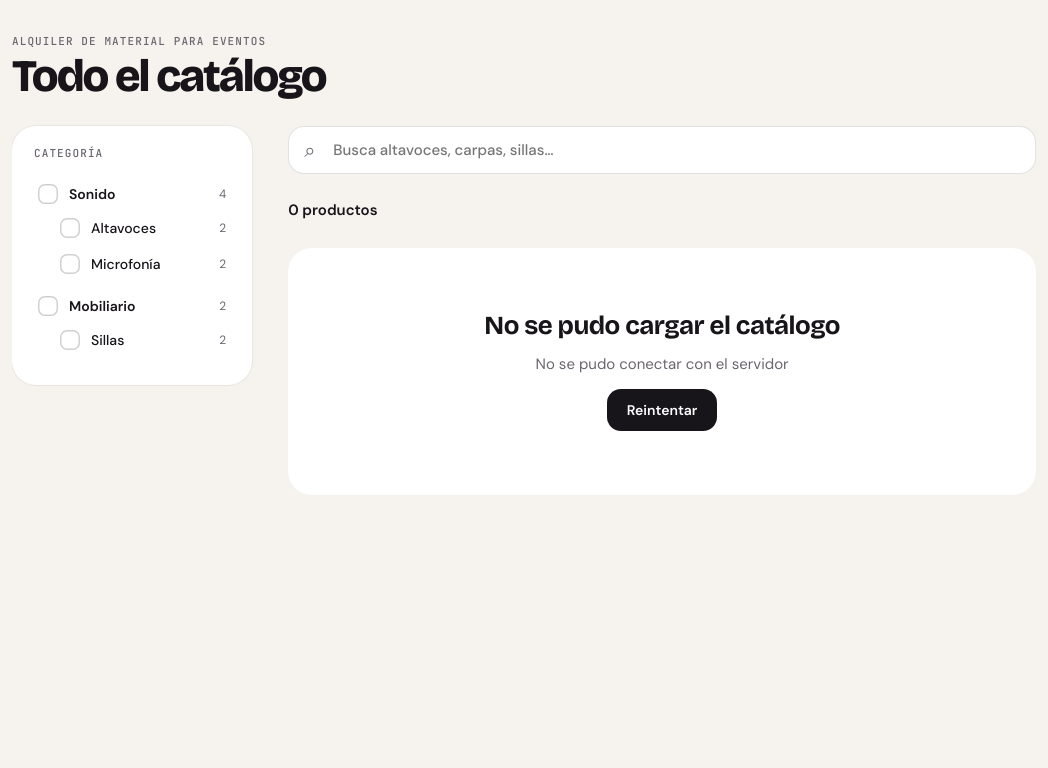
Test: Catalog › mostra l'error de l'API i torna a provar amb "Reintentar"
This screenshot has width=1048, height=768.
Expected: the heading "No se pudo cargar el catálogo" is shown, [484,312,840,340]
Expected: the text "No se pudo conectar con el servidor" is shown, [536,354,789,375]
Click the button "Reintentar": (662,410) [607,389,718,431]
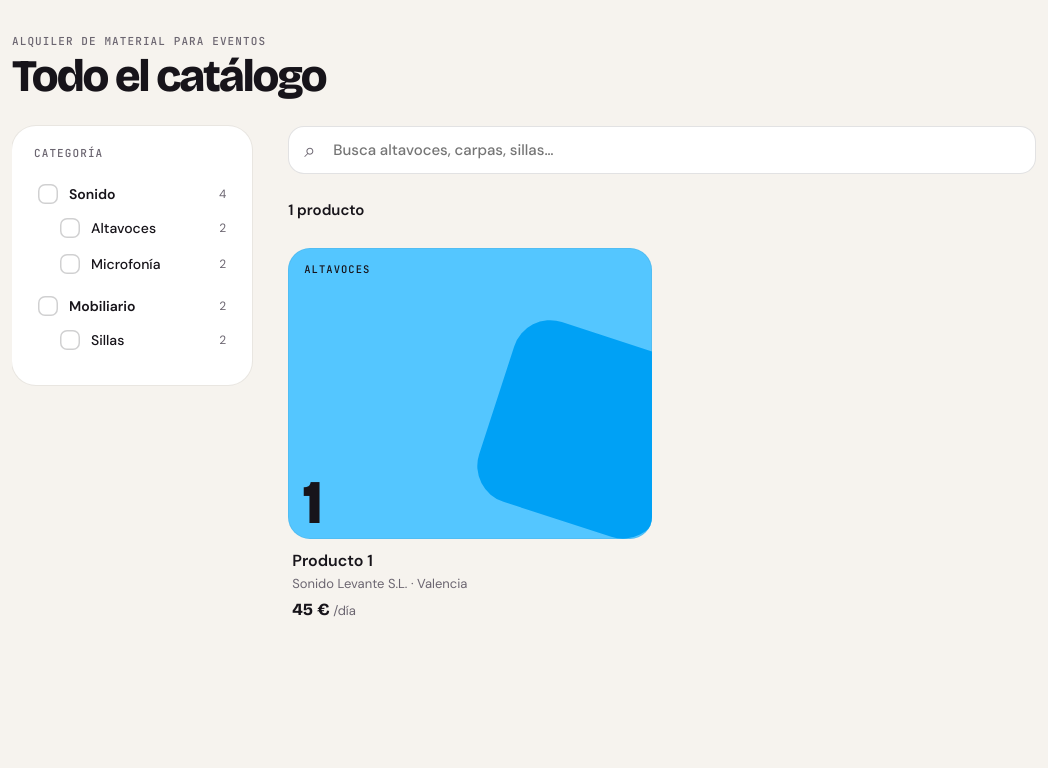
Now the heading "Producto 1" is shown, box [292,550,373,571]
